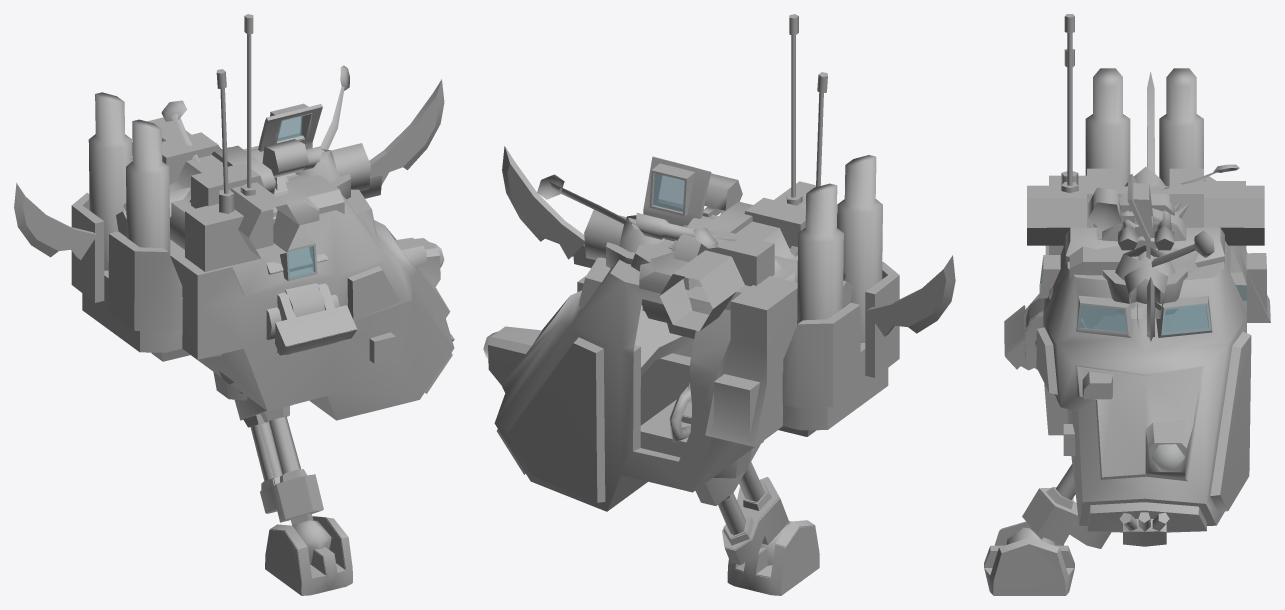
Rendered from bp_sentinel_lascannon-1ibsemq.glb.
3 renders of one model, left to right at view 1: azimuth 30°, elevation 25°; view 2: azimuth 150°, elevation 25°; view 3: azimuth 270°, elevation 25°, orthographic. The views are drawn at different scales.
Visible parts, largest first — view 1: turret, turret_interior, body, legr3, legl2, legl3, object012, object011, legl4, legr4, gun, door (+4 smaller); view 2: turret, turret_interior, body, legr3, legr4, door, object012, object011, legl3, gun, detail4, legl1 (+1 smaller); view 3: turret, turret_interior, body, legl4, legl3, gun, gun_rot_melta, door, detail4, legr2, legl2, legr1 (+4 smaller).
Boxes of the visible parts, x1,y1,x2,y2 form: turret: (71,14,454,420); turret_interior: (71,93,452,418); body: (132,117,350,258); legr3: (240,405,322,564); legl2: (219,283,356,393); legl3: (234,397,331,549); object012: (369,79,444,184); object011: (14,183,97,259); legl4: (270,516,352,595); legr4: (265,517,351,595); gun: (116,143,382,236); door: (258,103,322,151); turret: (483,14,899,511); turret_interior: (488,155,899,509); body: (606,181,837,338); legr3: (669,399,789,565); legr4: (727,526,819,595); door: (642,156,711,311); object012: (502,146,584,259); object011: (867,255,955,336); legl3: (670,389,789,549); gun: (573,209,852,307); detail4: (537,174,736,248); legl1: (671,216,715,261); turret: (1036,14,1270,546); turret_interior: (1036,68,1270,532); body: (1027,168,1264,314); legl4: (984,521,1074,595); legl3: (1006,464,1110,546); gun: (1124,166,1168,339); gun_rot_melta: (1069,245,1134,279); door: (1127,174,1153,259); detail4: (1151,164,1239,267); legr2: (1005,306,1095,370); legl2: (1004,293,1096,355); legr1: (1029,217,1185,328).
Size of the model in its own units: 58.43 by 70.9 by 33.56.
